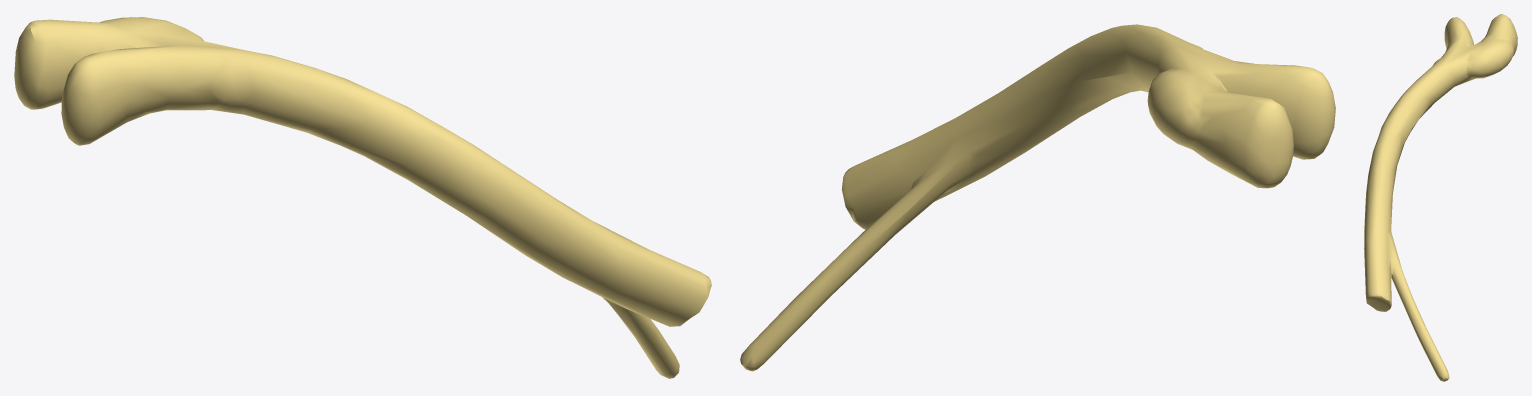
File: fma7011_fj4265.glb
The picture shows the model from 3 angles, left to right: view 1: azimuth 30°, elevation 25°; view 2: azimuth 150°, elevation 25°; view 3: azimuth 270°, elevation 25°; orthographic projection. The views are drawn at different scales.
Parts seen in each view (by area): view 1: FMA7011_FJ4265; view 2: FMA7011_FJ4265; view 3: FMA7011_FJ4265.
Part boxes in pixels (bbox=[...]): FMA7011_FJ4265: bbox=[14, 17, 711, 378]; FMA7011_FJ4265: bbox=[740, 24, 1335, 371]; FMA7011_FJ4265: bbox=[1364, 14, 1517, 381].
Size of the model in its own units: 0.041 by 0.0294 by 0.0181.
